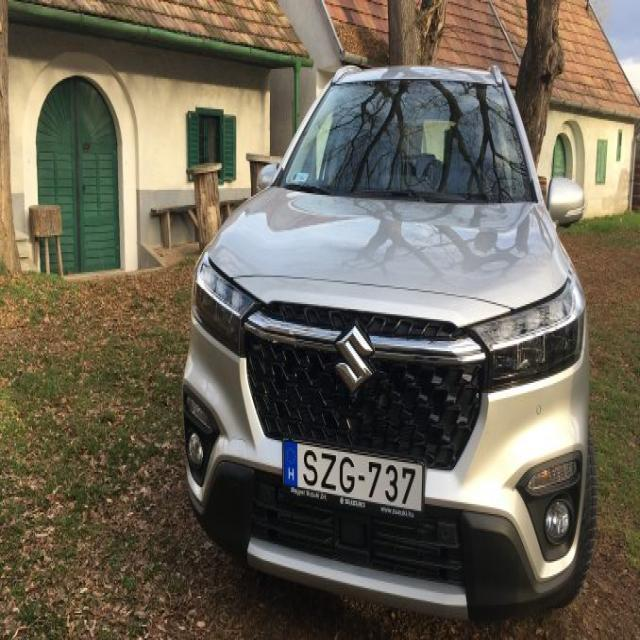licence: (281, 435, 426, 518)
